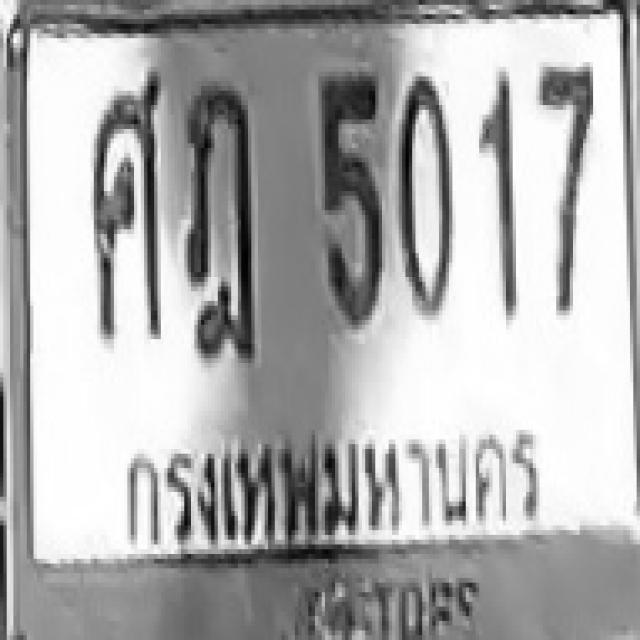0: (397, 72, 454, 320)
1: (476, 70, 516, 322)
23DorChaDa: (183, 81, 253, 358)
47SorSala: (89, 70, 162, 342)
5: (320, 74, 384, 327)
7: (536, 65, 593, 318)
Bangkok: (121, 426, 555, 544)
